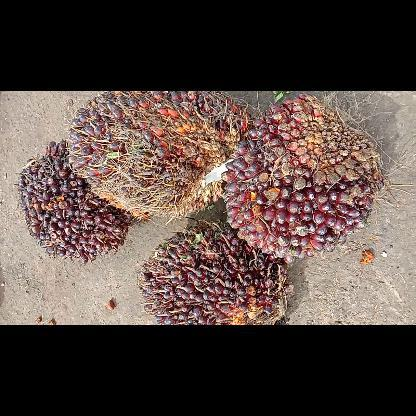Kurang masak: (221, 91, 386, 263), (65, 91, 251, 221), (138, 220, 292, 324), (18, 140, 128, 264)
